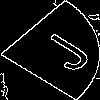J: (25, 25, 98, 74)
